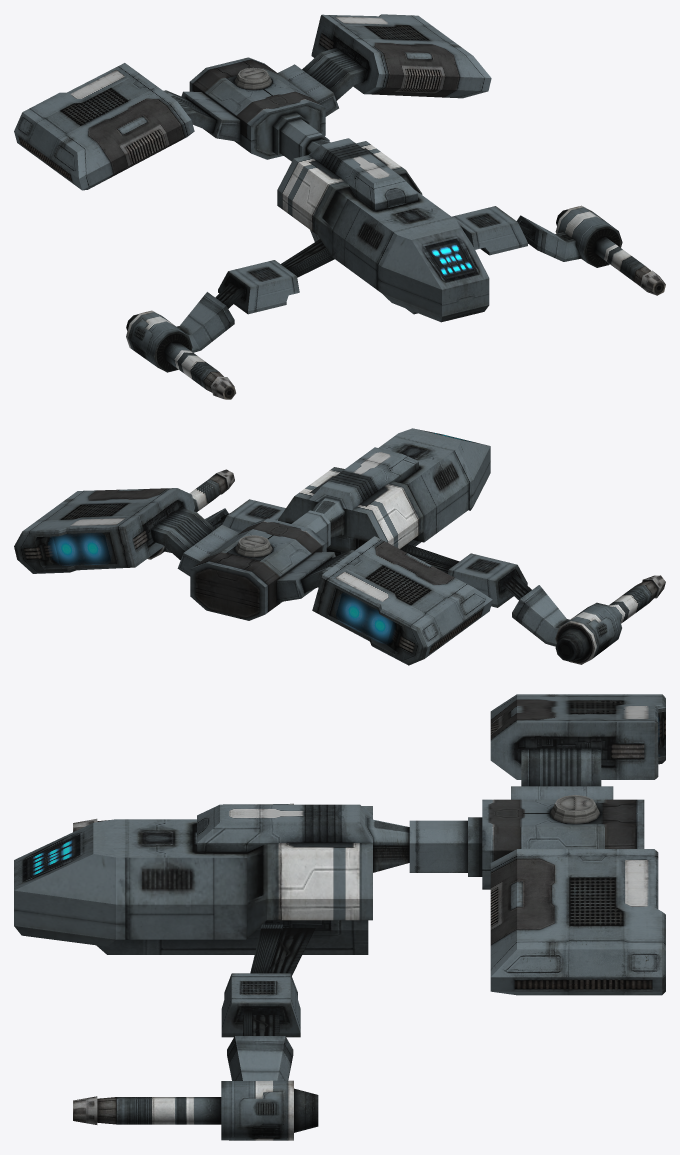
The model's file is 28280_lite.glb.
The picture shows the model from 3 angles, top to bottom: view 1: azimuth 30°, elevation 25°; view 2: azimuth 150°, elevation 25°; view 3: azimuth 270°, elevation 25°; orthographic projection. The views are drawn at different scales.
Visible parts, largest first — view 1: ship; view 2: ship; view 3: ship.
Boxes of the visible parts, x1,y1,x2,y2 form: ship: (14, 14, 665, 399); ship: (14, 428, 665, 665); ship: (14, 694, 665, 1140).
Size of the model in its own units: 0.0799 by 0.0261 by 0.0728.
1 material, 1 textured.
